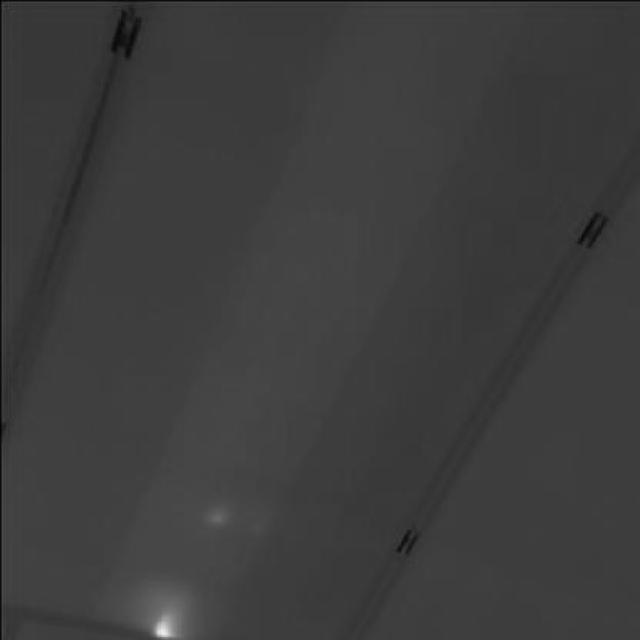hotspot: (134, 590, 189, 638)
